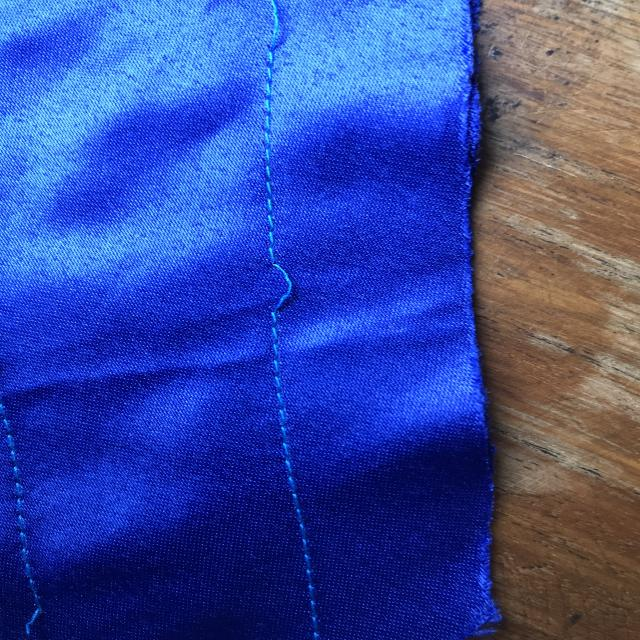skip: (247, 237, 312, 342)
